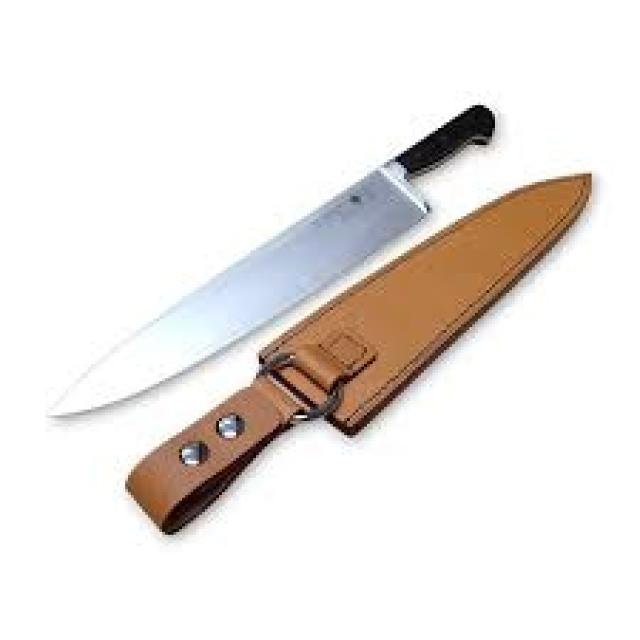Knife: (48, 102, 492, 415)
